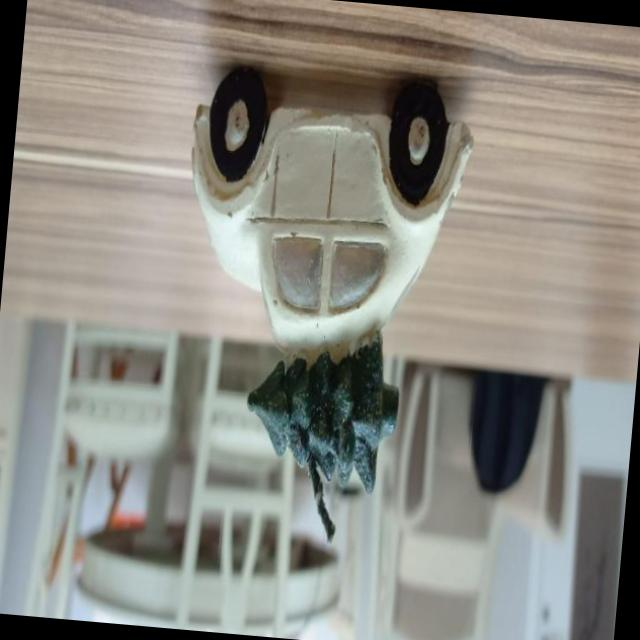car: (155, 68, 473, 362)
